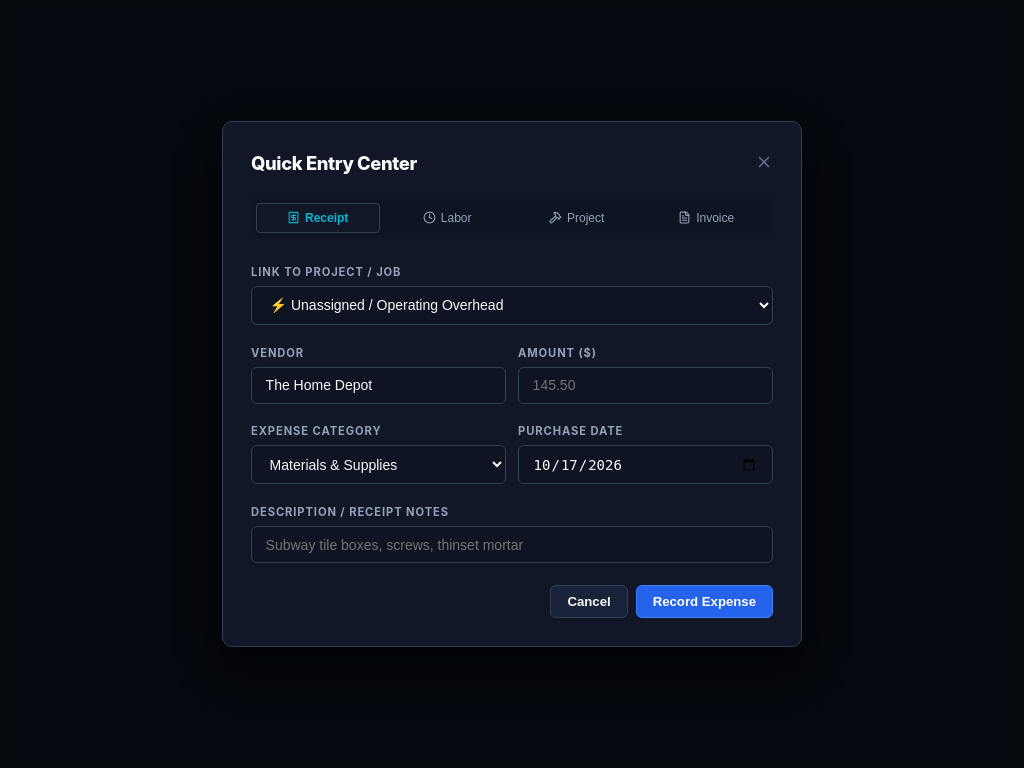
QuickAddModal › recording a receipt › clears the last complaint when the form is submitted again
The width and height of the screenshot is (1024, 768).
Type "nope" into the field labelled "Amount ($)".
click(646, 385); type("nope")  # box [518,366,773,404]
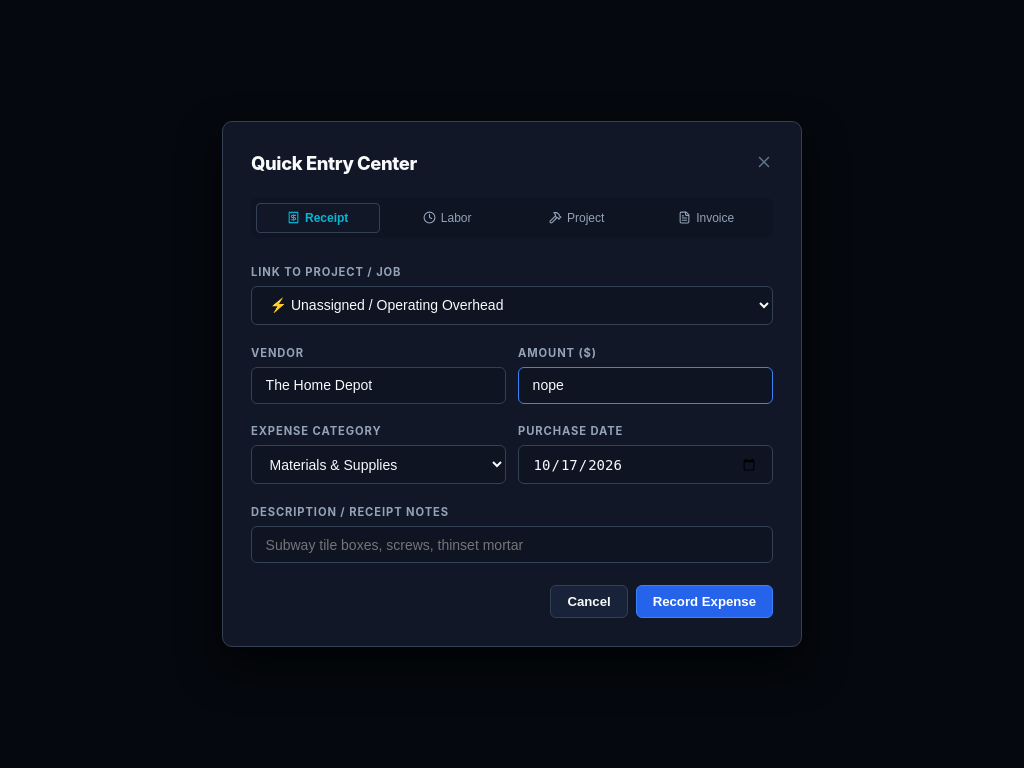
Click the button "Record Expense".
click(704, 601)  # box [636,585,773,618]
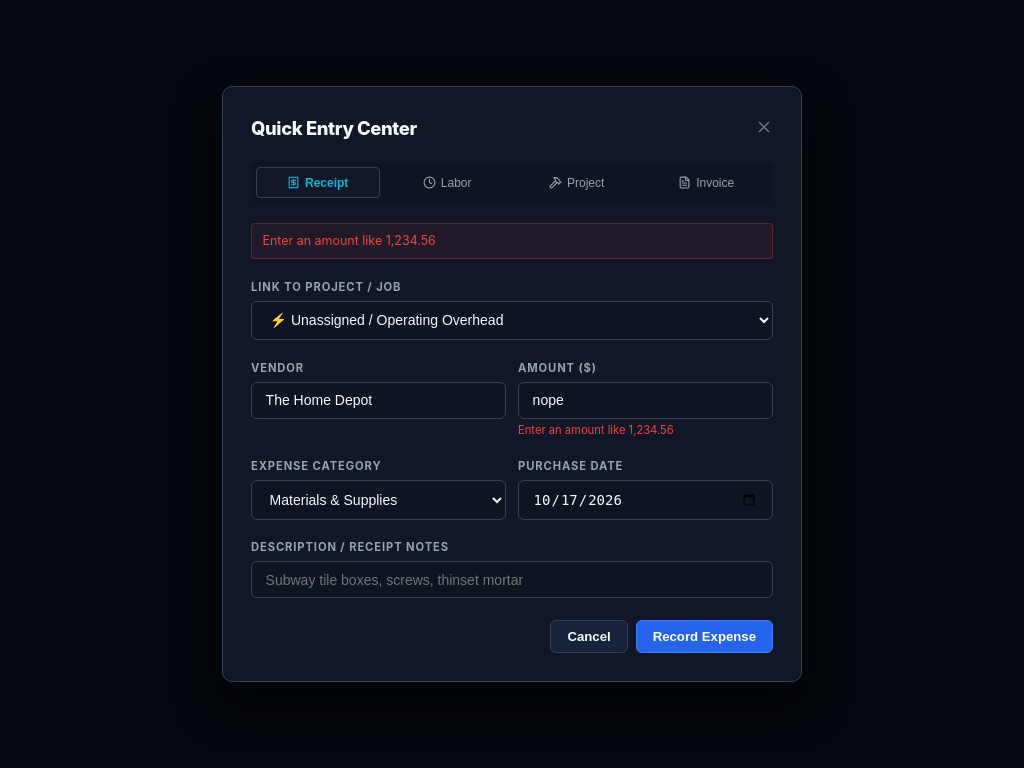
Type "10.00" into the field labelled "Amount ($)".
click(646, 400); type("10.00")  # box [518,382,773,419]
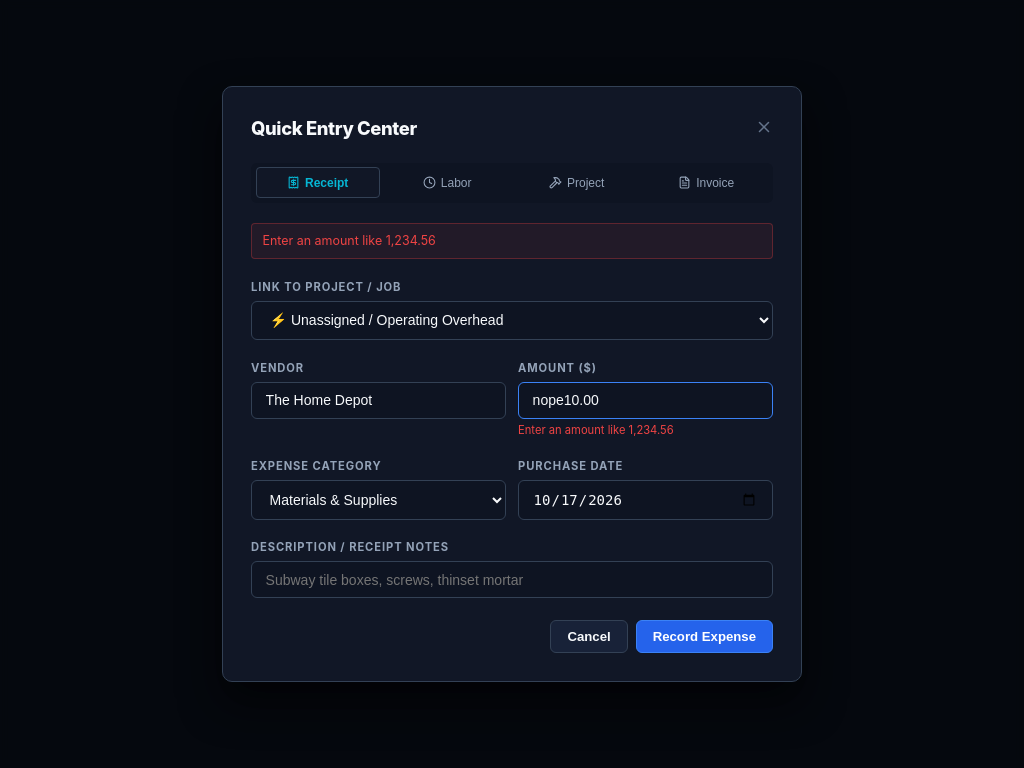
Click the button "Record Expense".
click(704, 636)  # box [636,620,773,653]
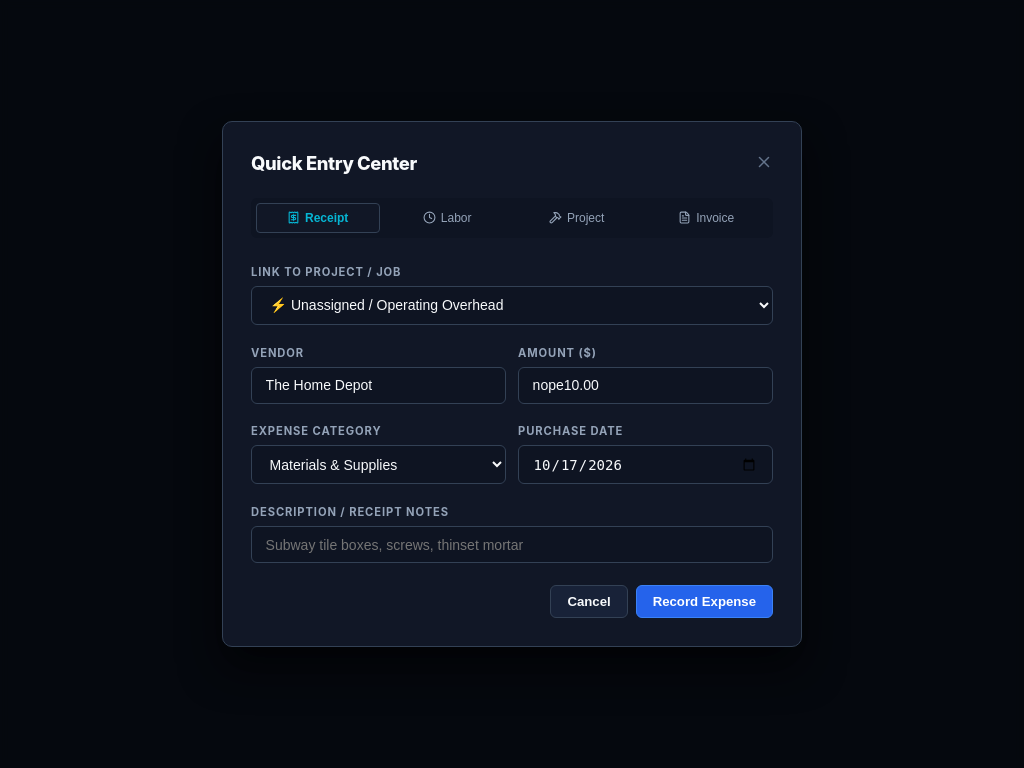
expect the message "Enter an amount like 1,234.56" is gone: met
